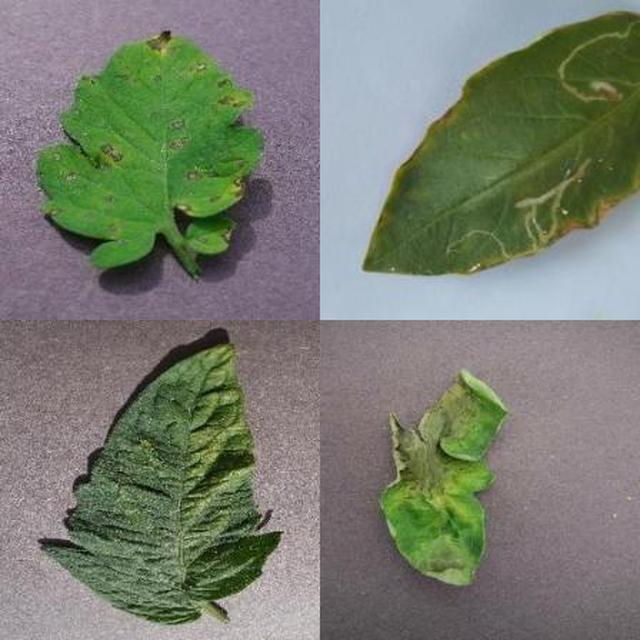Septoria Leaf: (189, 202, 640, 640)
